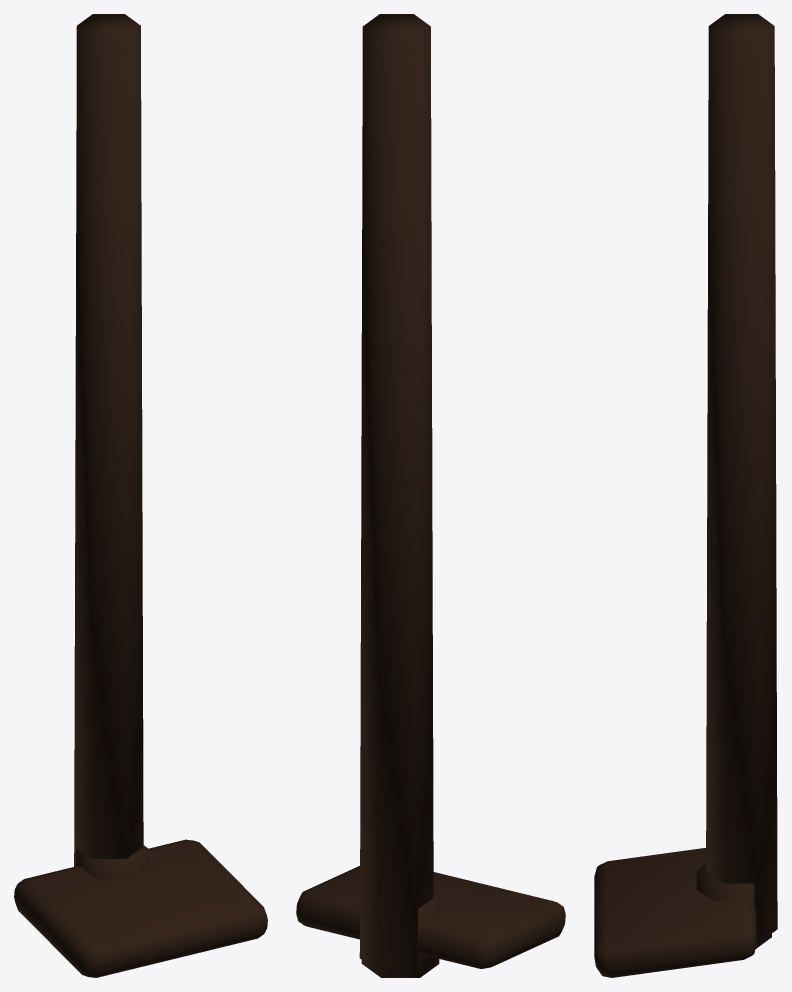
Rendered from hoe.glb.
3 views of the same model, side by side, from view 1: azimuth 30°, elevation 25°; view 2: azimuth 150°, elevation 25°; view 3: azimuth 270°, elevation 25° (orthographic). The views are drawn at different scales.
Visible parts, largest first — view 1: hoe_outline; view 2: hoe_outline; view 3: hoe_outline.
Part boxes in pixels (x1=…): hoe_outline: x1=14, y1=14, x2=267, y2=977; hoe_outline: x1=296, y1=14, x2=565, y2=977; hoe_outline: x1=594, y1=14, x2=777, y2=977.
Size of the model in its own units: 0.3011 by 1.37 by 0.2492.
